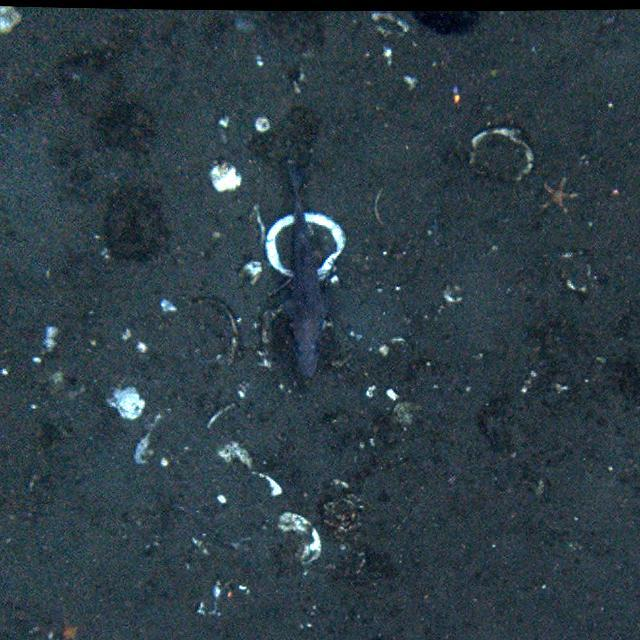roundfish: (272, 164, 338, 377)
